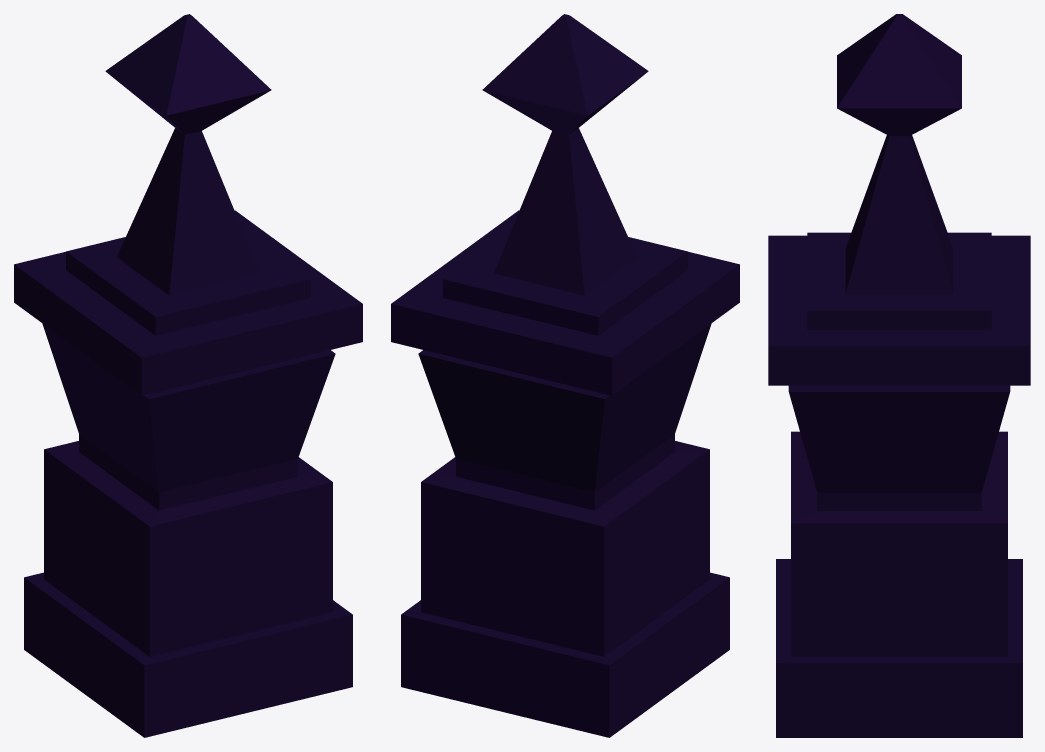
Rendered from European stone pillar.fbx.
The picture shows the model from 3 angles, left to right: view 1: azimuth 30°, elevation 25°; view 2: azimuth 150°, elevation 25°; view 3: azimuth 270°, elevation 25°; orthographic projection. The views are drawn at different scales.
Parts seen in each view (by area): view 1: pCube9; view 2: pCube9; view 3: pCube9.
Part boxes in pixels (<box>): pCube9: <box>14,14,362,737</box>; pCube9: <box>391,14,739,737</box>; pCube9: <box>768,14,1030,737</box>.
Bounding box in the file's own units: 793 × 2237 × 793.
